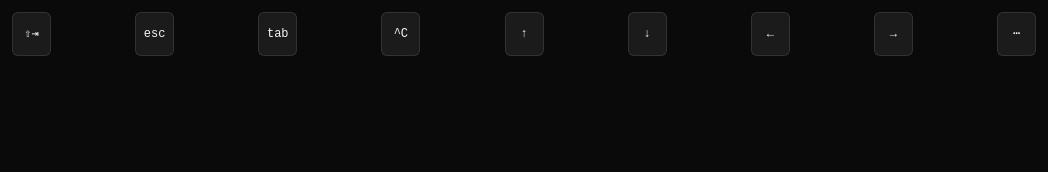
it: TerminalShortcutStrip › toggles the overflow drawer when more is tapped without duplicating primary arrows
Click the button named "show extra shortcuts" at (1016, 34), box [997, 12, 1036, 56]
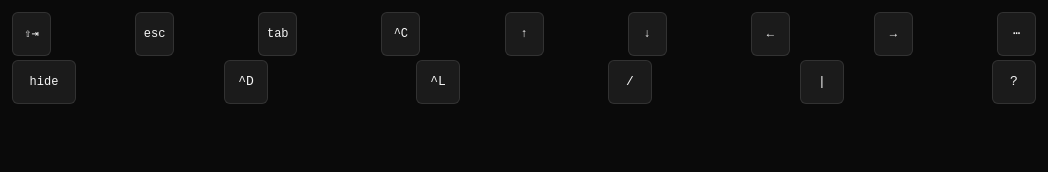
Now the button with aria-label "hide keyboard" is shown, box [12, 60, 76, 104]
Now the button "^D" is shown, box [224, 60, 268, 104]
Now the button "^L" is shown, box [416, 60, 460, 104]
Click the button named "hide extra shortcuts" at (1016, 34), box [997, 12, 1036, 56]
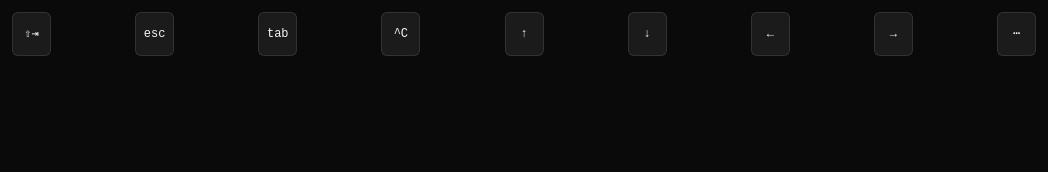
Now the button "^D" is gone
